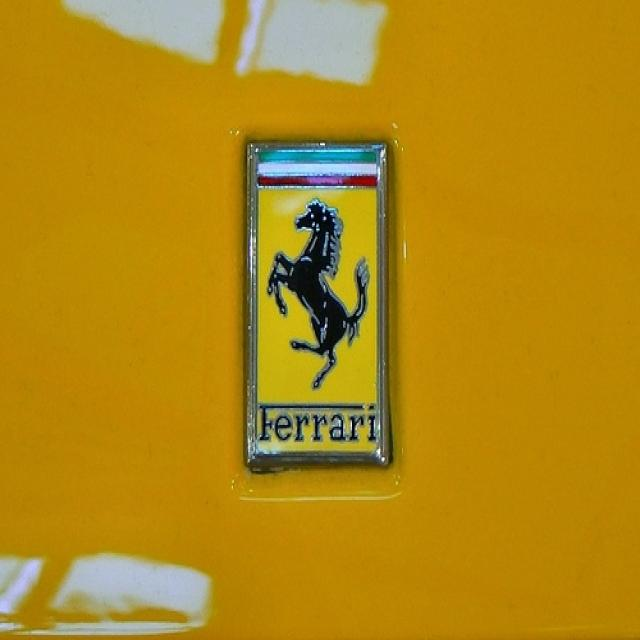ferrari: (255, 149, 381, 455)
